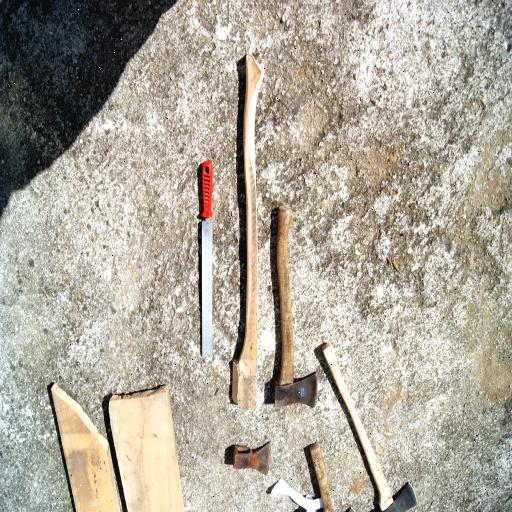Axe: (318, 346, 416, 512), (272, 204, 320, 410)
